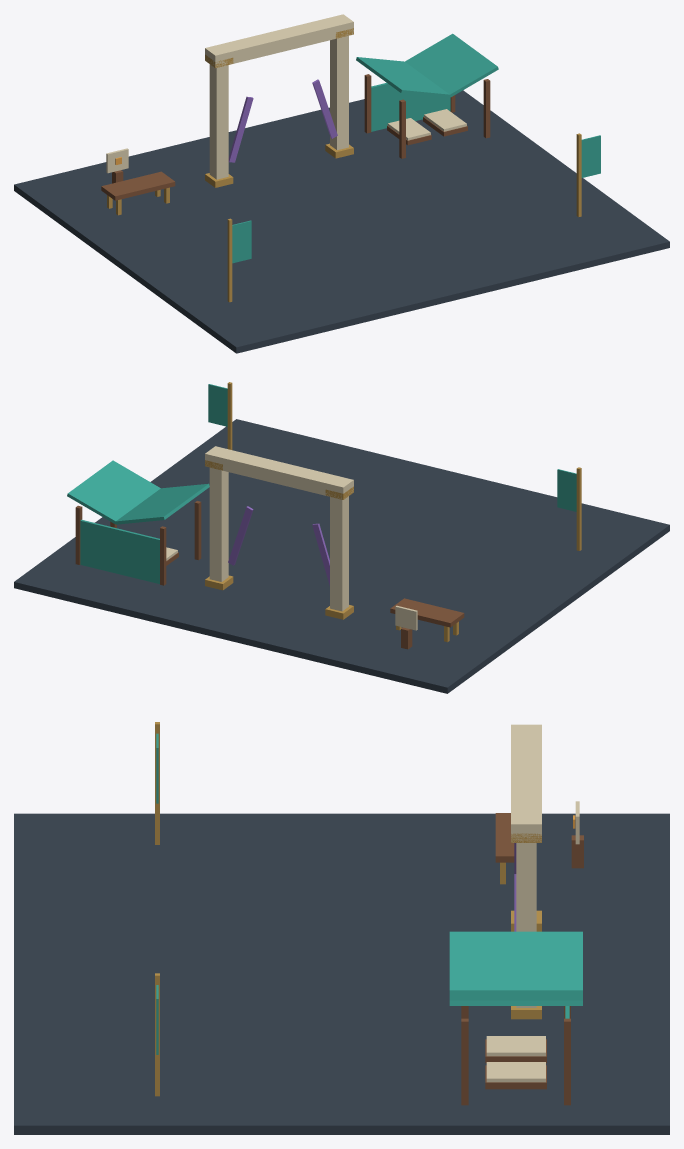
Rendered from rift_refuge.glb.
3 views of the same model, one above another, from view 1: azimuth 30°, elevation 25°; view 2: azimuth 150°, elevation 25°; view 3: azimuth 270°, elevation 25° (orthographic). The views are drawn at different scales.
Parts seen in each view (by area): view 1: rift_refuge; view 2: rift_refuge; view 3: rift_refuge.
Boxes of the visible parts, <box> form: rift_refuge: <box>14,14,669,353</box>; rift_refuge: <box>14,382,669,693</box>; rift_refuge: <box>14,722,669,1134</box>.
Size of the model in its own units: 72 by 22 by 64.
